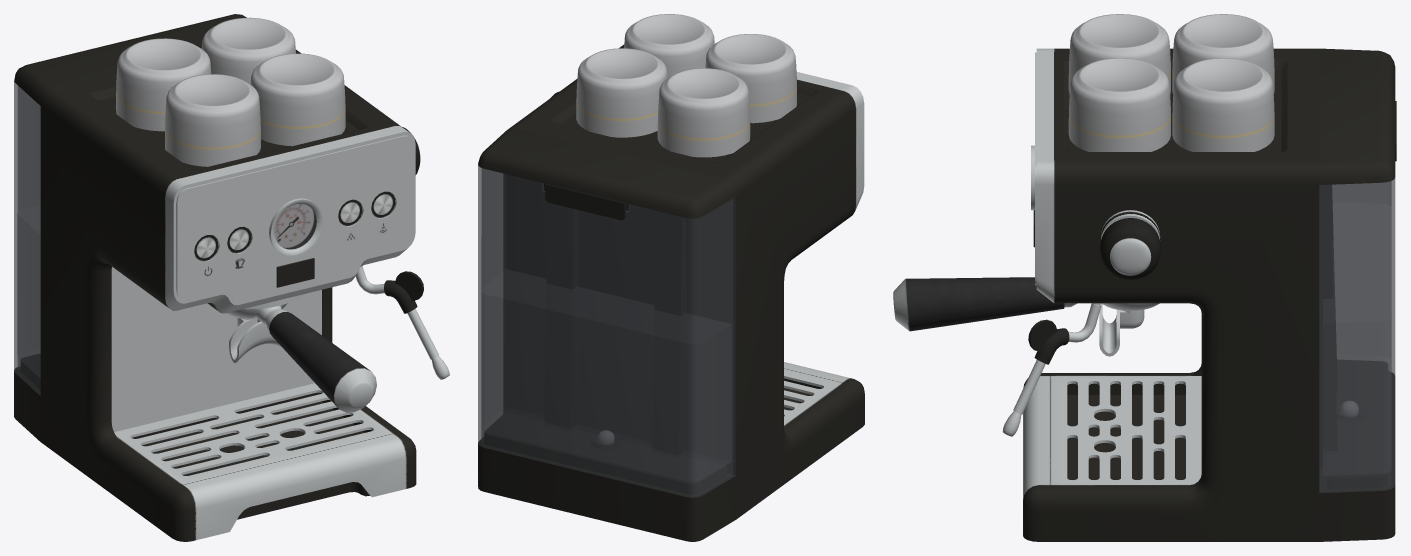
3 renders of one model, left to right at view 1: azimuth 30°, elevation 25°; view 2: azimuth 150°, elevation 25°; view 3: azimuth 270°, elevation 25°, orthographic. The views are drawn at different scales.
Visible parts, largest first — view 1: eMachine15Bar, eMachine15Bar_glassOutter, eMachine15Bar_water, eMachine15Bar_glassInner, frontGlass; view 2: eMachine15Bar, eMachine15Bar_glassOutter, eMachine15Bar_glassInner, eMachine15Bar_water; view 3: eMachine15Bar, eMachine15Bar_glassOutter, eMachine15Bar_glassInner, eMachine15Bar_water.
Part boxes in pixels (x1,y1,x2,y2): eMachine15Bar: [14, 14, 449, 541]; eMachine15Bar_glassOutter: [14, 81, 40, 395]; eMachine15Bar_water: [17, 205, 40, 377]; eMachine15Bar_glassInner: [18, 86, 40, 391]; frontGlass: [274, 204, 316, 249]; eMachine15Bar: [478, 14, 864, 541]; eMachine15Bar_glassOutter: [478, 164, 735, 497]; eMachine15Bar_glassInner: [481, 168, 732, 495]; eMachine15Bar_water: [481, 269, 731, 481]; eMachine15Bar: [893, 14, 1396, 541]; eMachine15Bar_glassOutter: [1319, 178, 1395, 492]; eMachine15Bar_glassInner: [1319, 181, 1391, 491]; eMachine15Bar_water: [1323, 281, 1391, 475].
Size of what is drawn, in the model's own units: 0.2669 by 0.3597 by 0.3853.
Materials: 2 (1 with a texture image).
